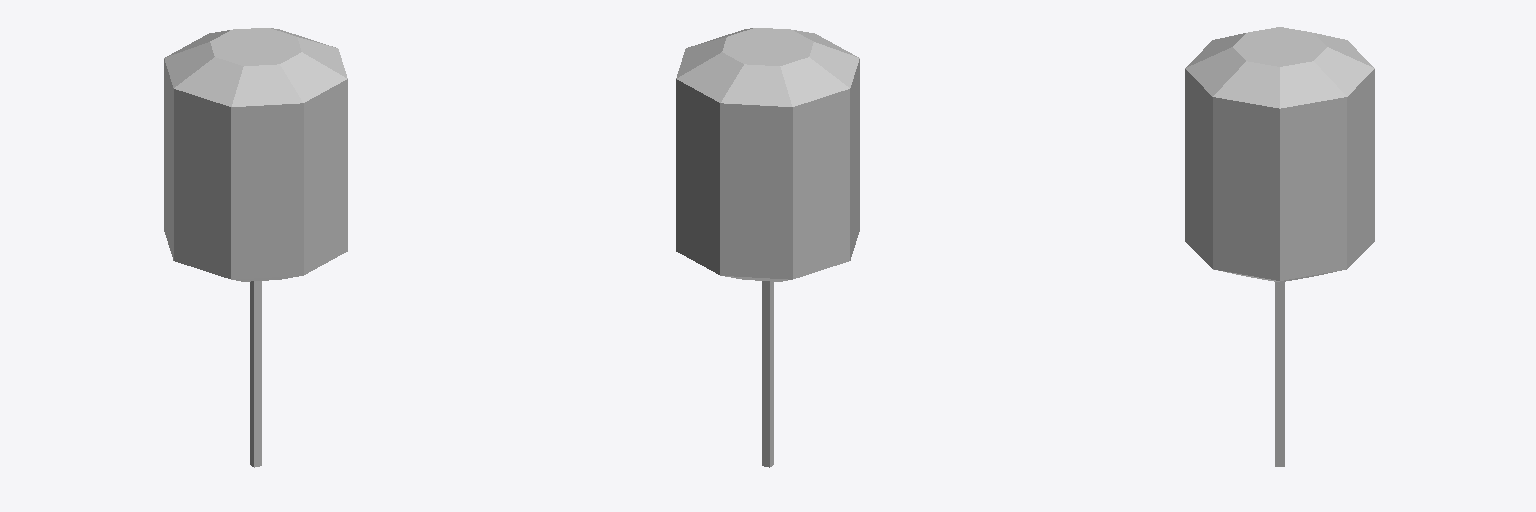
Rendered from neatTree_3.obj.
3 views of the same model, side by side, from view 1: azimuth 30°, elevation 25°; view 2: azimuth 150°, elevation 25°; view 3: azimuth 270°, elevation 25° (orthographic).
Visible parts, largest first — view 1: neatTree.002_Cube.144; view 2: neatTree.002_Cube.144; view 3: neatTree.002_Cube.144.
Boxes of the visible parts, <box> form: neatTree.002_Cube.144: <box>164,28,347,467</box>; neatTree.002_Cube.144: <box>676,28,859,467</box>; neatTree.002_Cube.144: <box>1185,27,1374,466</box>.
Bounding box in the file's own units: 2.12 × 5.14 × 2.12.